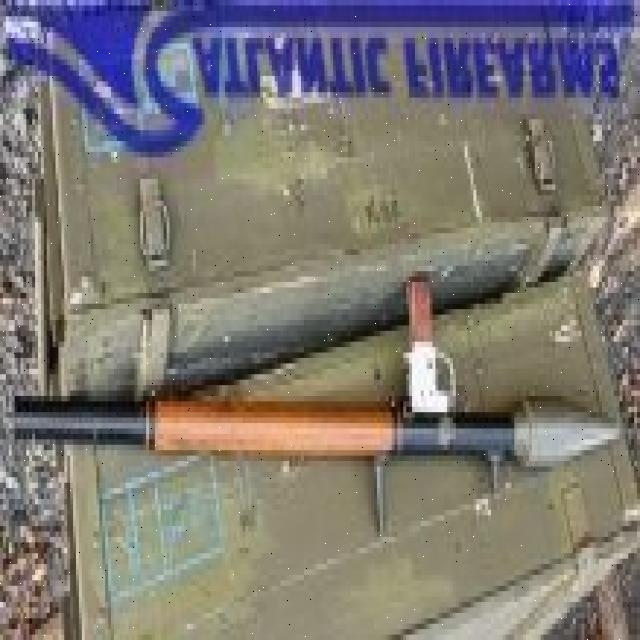bazooka: (7, 342, 629, 489)
